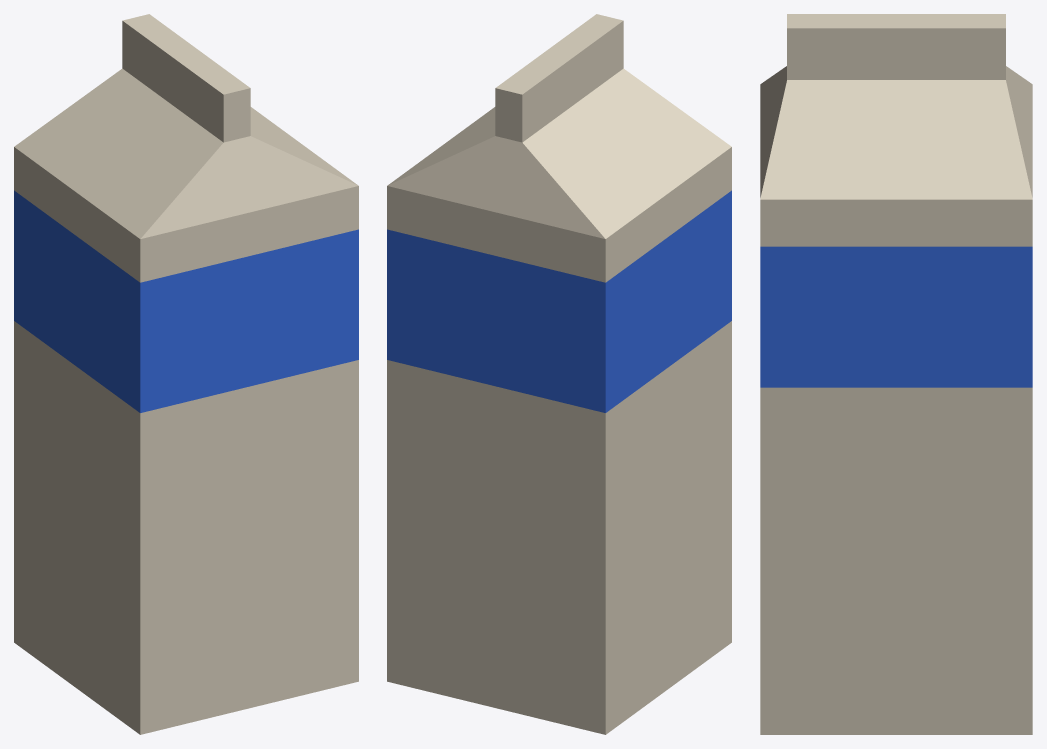
File: lait.fbx
3 views of the same model, side by side, from view 1: azimuth 30°, elevation 25°; view 2: azimuth 150°, elevation 25°; view 3: azimuth 270°, elevation 25° (orthographic). The views are drawn at different scales.
Parts seen in each view (by area): view 1: milk; view 2: milk; view 3: milk.
Part boxes in pixels (bbox=[...]): milk: bbox=[14, 14, 358, 734]; milk: bbox=[387, 14, 731, 734]; milk: bbox=[760, 14, 1032, 734].
Size of the model in its own units: 21.22 by 21.22 by 56.37.
